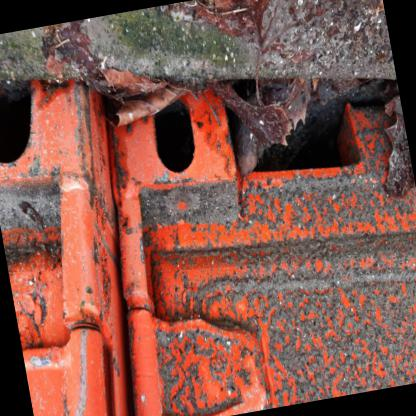CornerCasting: (95, 79, 250, 236), (0, 76, 108, 219)
